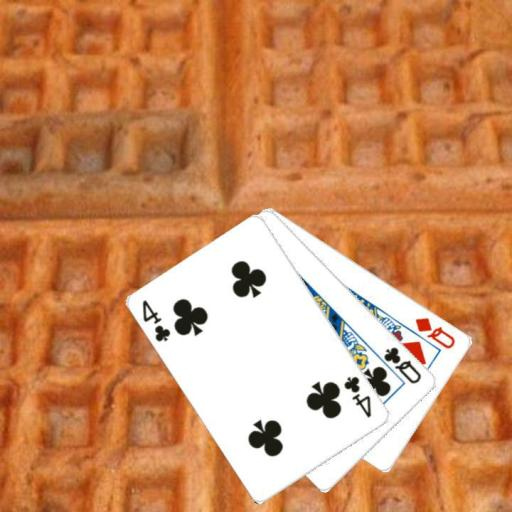4C: (139, 297, 173, 344), (341, 373, 373, 420)
QC: (381, 344, 423, 386)
QD: (413, 314, 458, 351)
